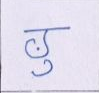u_matra: (33, 60, 55, 77)
